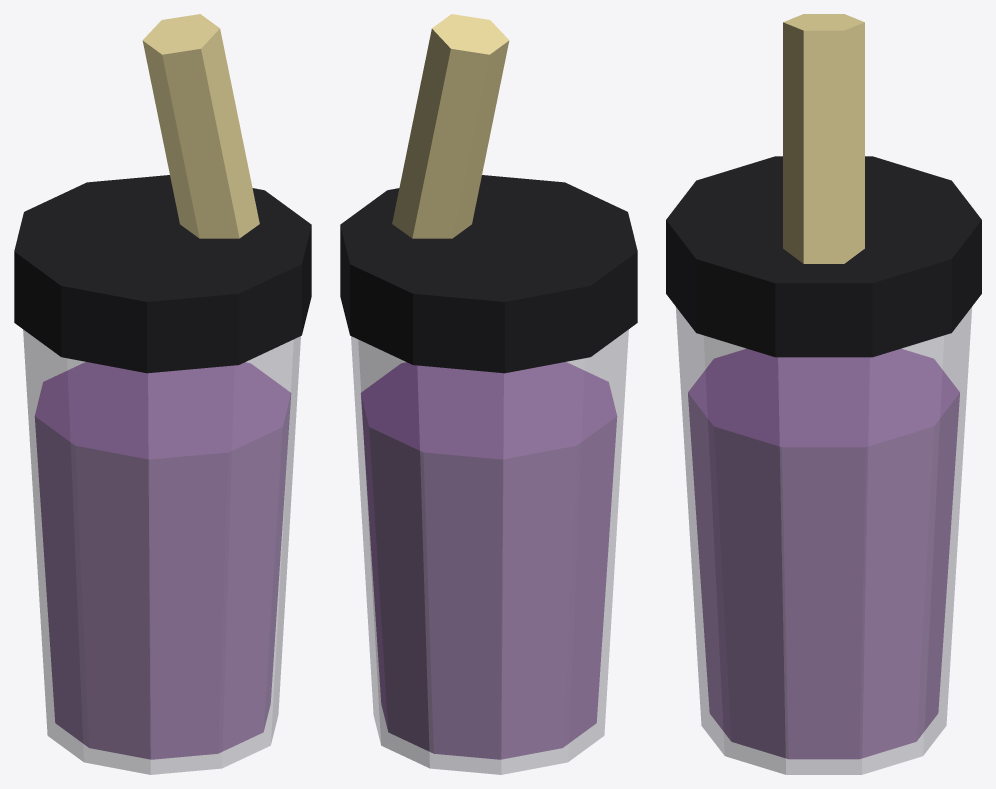
Rendered from gym_shake.glb.
3 renders of one model, left to right at view 1: azimuth 30°, elevation 25°; view 2: azimuth 150°, elevation 25°; view 3: azimuth 270°, elevation 25°, orthographic. The views are drawn at different scales.
Visible parts, largest first — view 1: cup_gym_shaker, shake_gym_shake_purple, lid_gym_black, map_gym_map; view 2: cup_gym_shaker, shake_gym_shake_purple, lid_gym_black, map_gym_map; view 3: cup_gym_shaker, shake_gym_shake_purple, lid_gym_black, map_gym_map.
Boxes of the visible parts, <box> form: cup_gym_shaker: <box>23,329,300,774</box>; shake_gym_shake_purple: <box>35,362,290,759</box>; lid_gym_black: <box>14,175,311,373</box>; map_gym_map: <box>142,14,259,238</box>; cup_gym_shaker: <box>351,329,628,774</box>; shake_gym_shake_purple: <box>361,362,616,759</box>; lid_gym_black: <box>340,175,637,373</box>; map_gym_map: <box>392,14,509,238</box>; cup_gym_shaker: <box>676,307,971,774</box>; shake_gym_shake_purple: <box>688,349,959,758</box>; lid_gym_black: <box>666,156,981,357</box>; map_gym_map: <box>783,14,864,263</box>.
Size of the model in its own units: 0.1103 by 0.2914 by 0.116.
